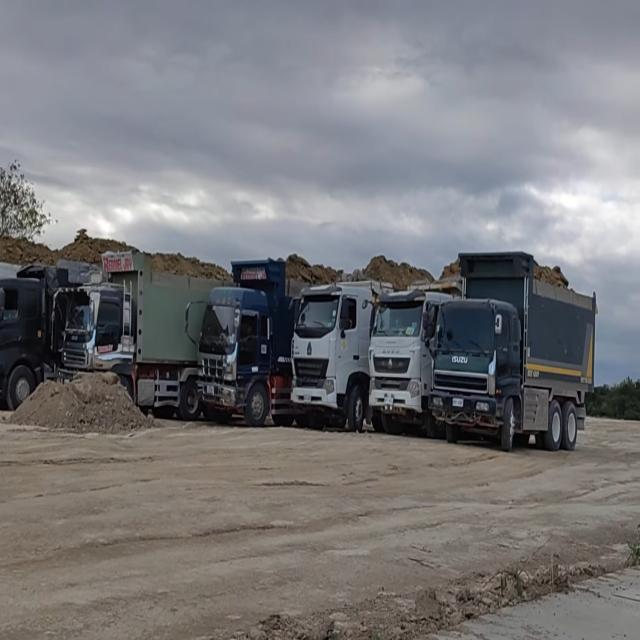truck: (428, 249, 598, 451), (55, 244, 223, 420), (199, 254, 319, 427), (290, 275, 396, 435), (368, 282, 460, 438), (0, 241, 79, 422)
